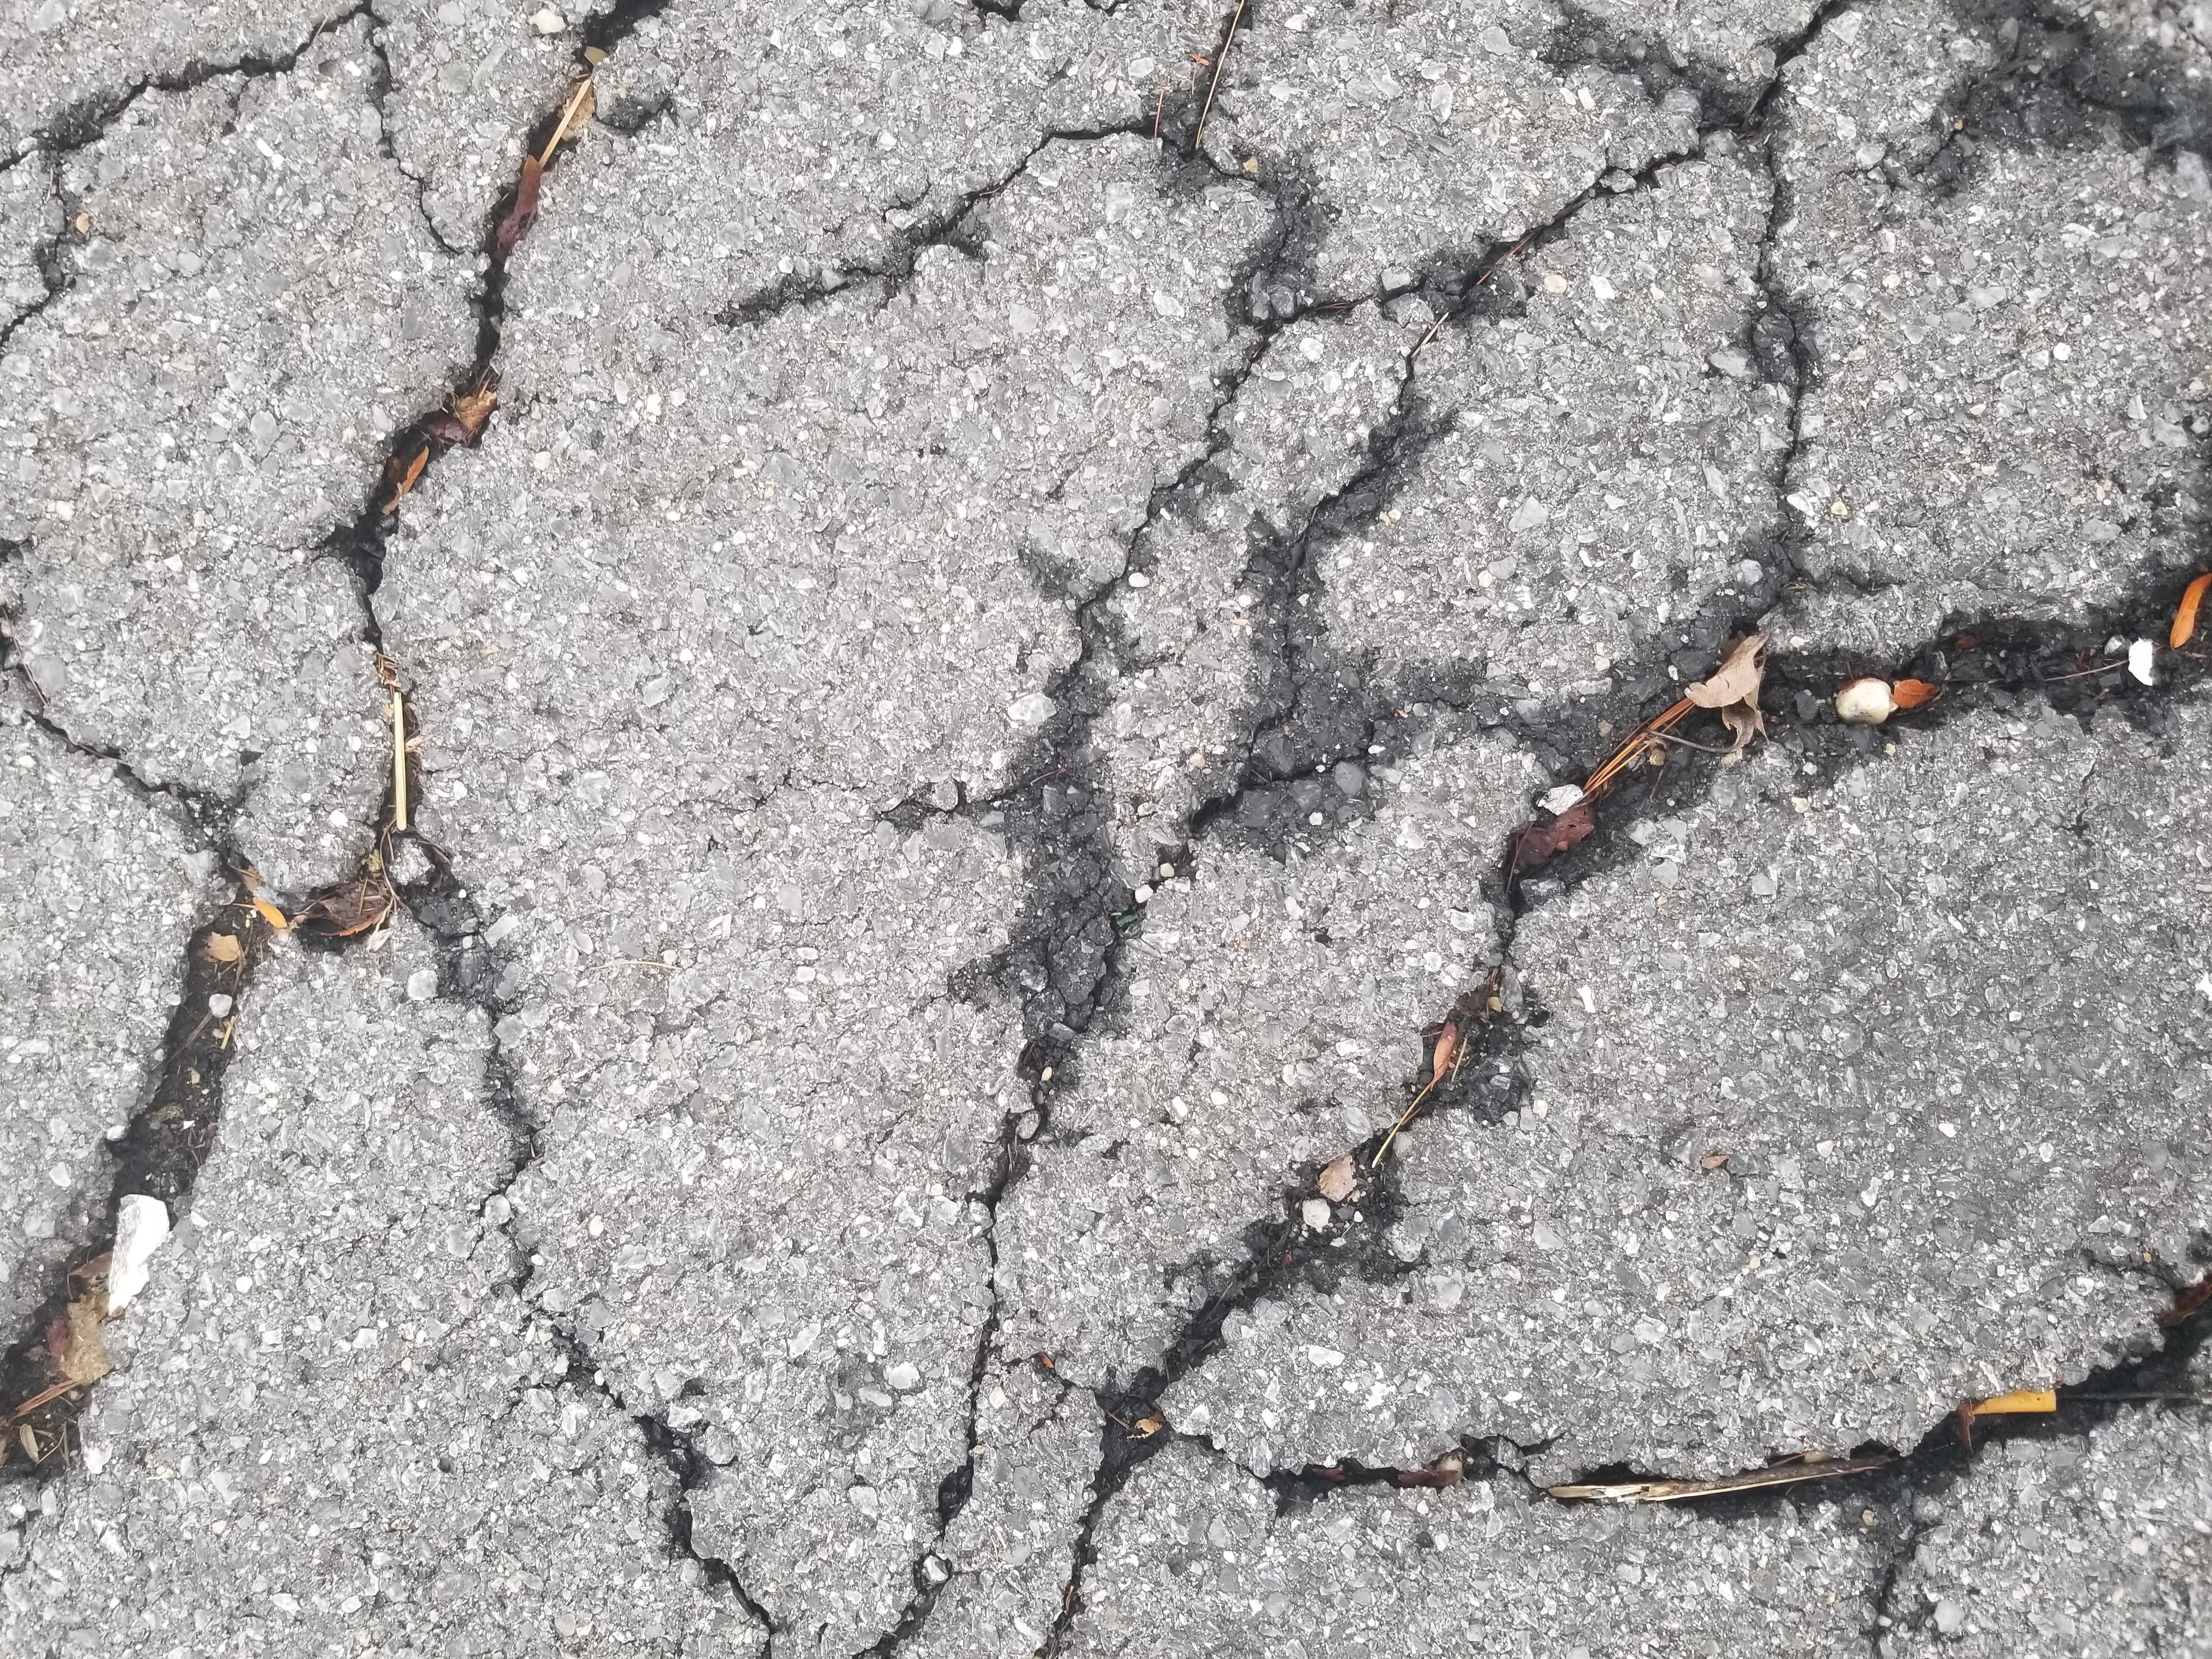alligator-crack: (59, 3, 2186, 1642)
